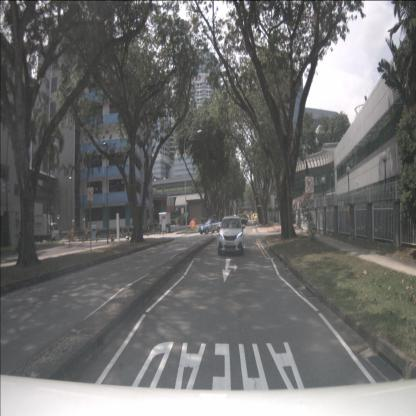vehicle-bicycle: (306, 223, 316, 242)
vehicle-car: (218, 216, 244, 256), (198, 219, 222, 234), (240, 213, 247, 226), (243, 215, 248, 222)
vehicle-truck: (29, 214, 59, 242)
